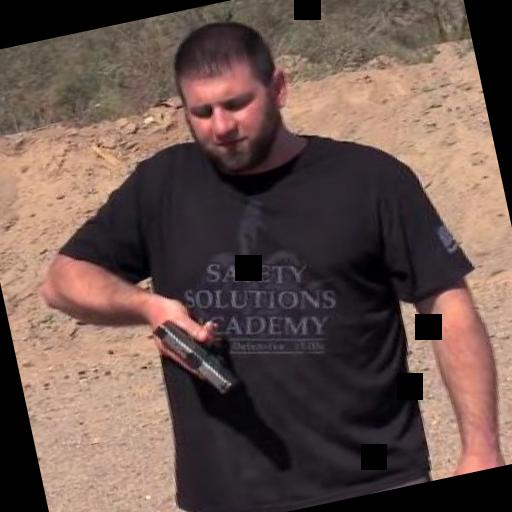Handgun: (141, 293, 244, 401)
